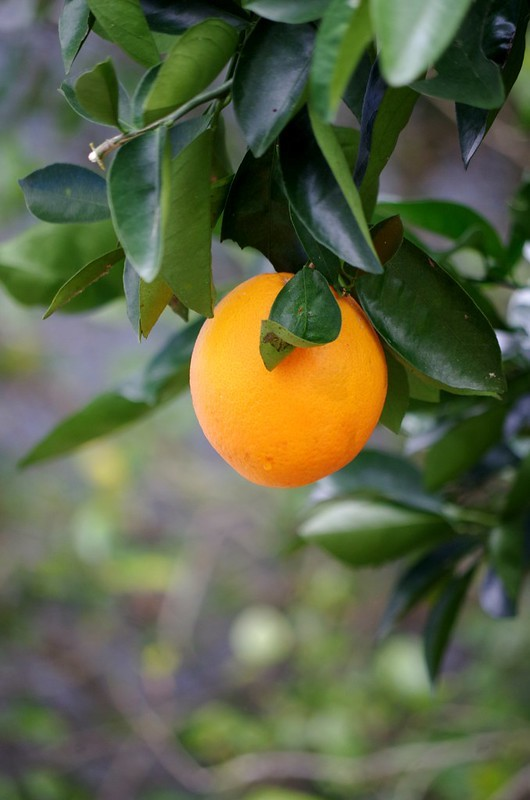orange: (185, 268, 399, 491)
